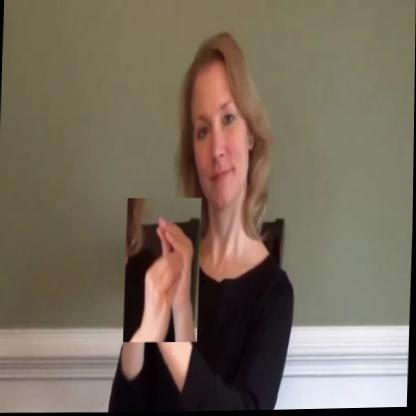Fix: (123, 197, 202, 344)
